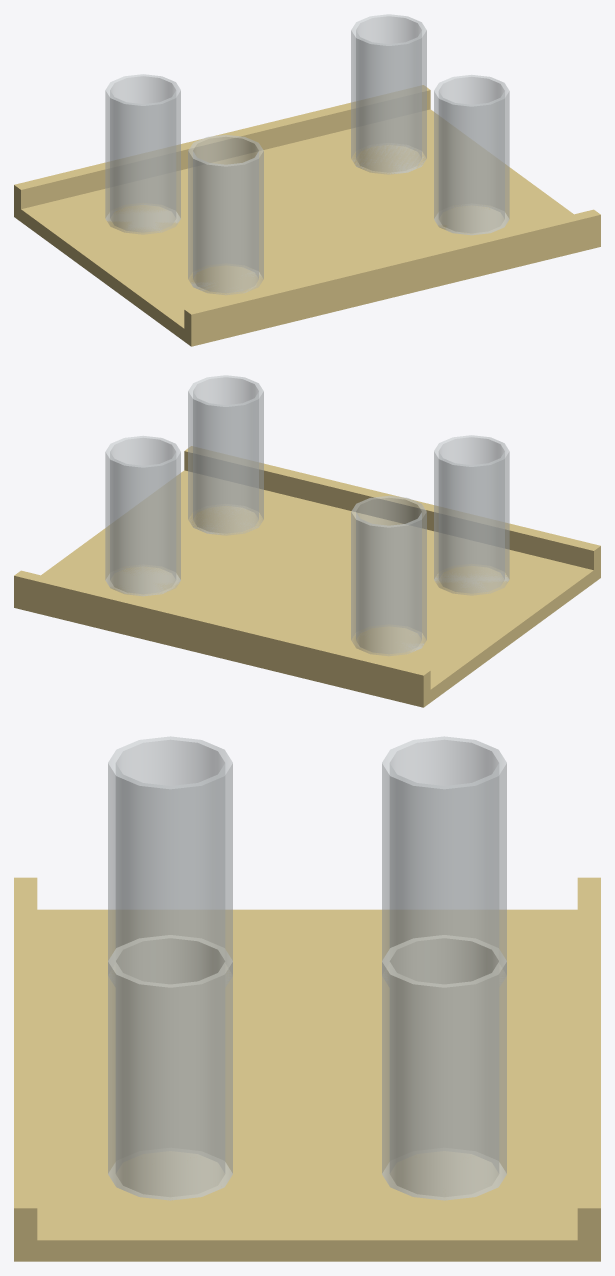
Rendered from bb_set_tray.fbx.
3 views of the same model, one above another, from view 1: azimuth 30°, elevation 25°; view 2: azimuth 150°, elevation 25°; view 3: azimuth 270°, elevation 25° (orthographic). The views are drawn at different scales.
Visible parts, largest first — view 1: bb_set_tray; view 2: bb_set_tray; view 3: bb_set_tray.
Part boxes in pixels (bbox=[...]): bb_set_tray: bbox=[14, 14, 600, 346]; bb_set_tray: bbox=[14, 375, 600, 707]; bb_set_tray: bbox=[14, 736, 600, 1261].
Size of the model in its own units: 0.4 by 0.132 by 0.3.
